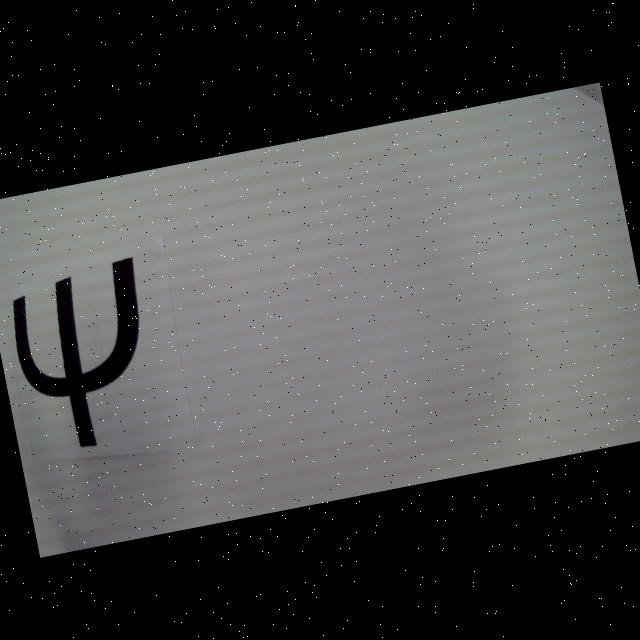PSI: (4, 256, 168, 457)
